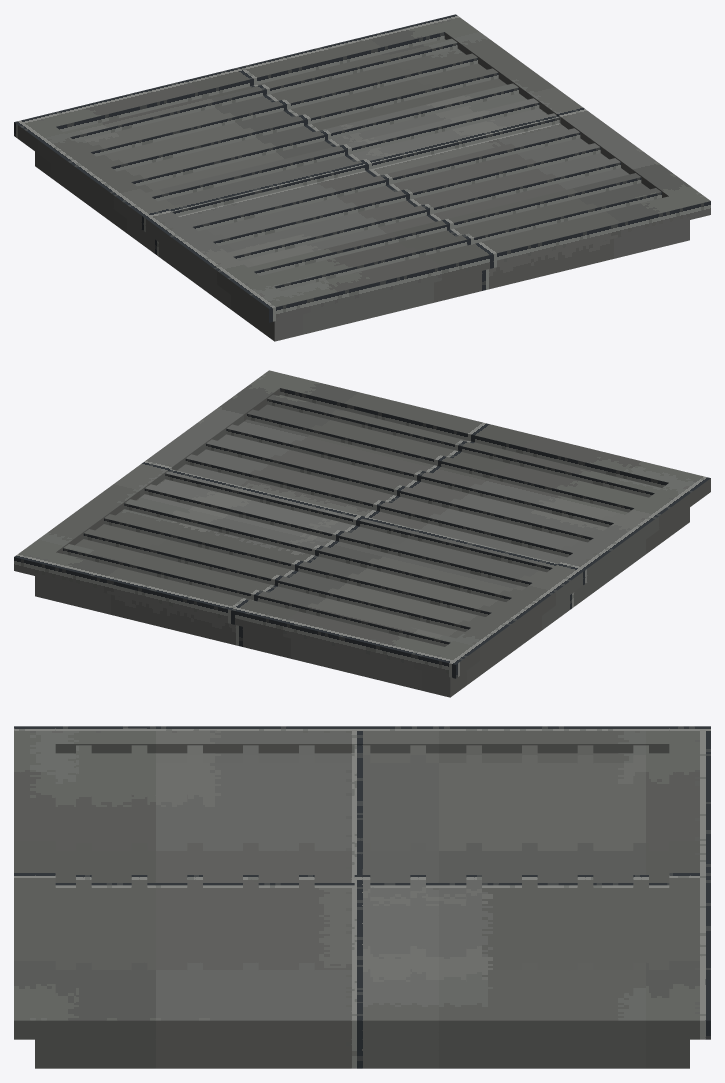
Rendered from arch_floor_grate.glb.
3 renders of one model, top to bottom at view 1: azimuth 30°, elevation 25°; view 2: azimuth 150°, elevation 25°; view 3: azimuth 270°, elevation 25°, orthographic. The views are drawn at different scales.
Visible parts, largest first — view 1: arch_floor_grate; view 2: arch_floor_grate; view 3: arch_floor_grate.
Boxes of the visible parts, left/top/right/bottom form: arch_floor_grate: left=14, top=14, right=710, bottom=341; arch_floor_grate: left=14, top=370, right=710, bottom=697; arch_floor_grate: left=14, top=726, right=710, bottom=1068.
Size of the model in its own units: 4 by 0.36 by 4.
Materials: 1 (1 with a texture image).
